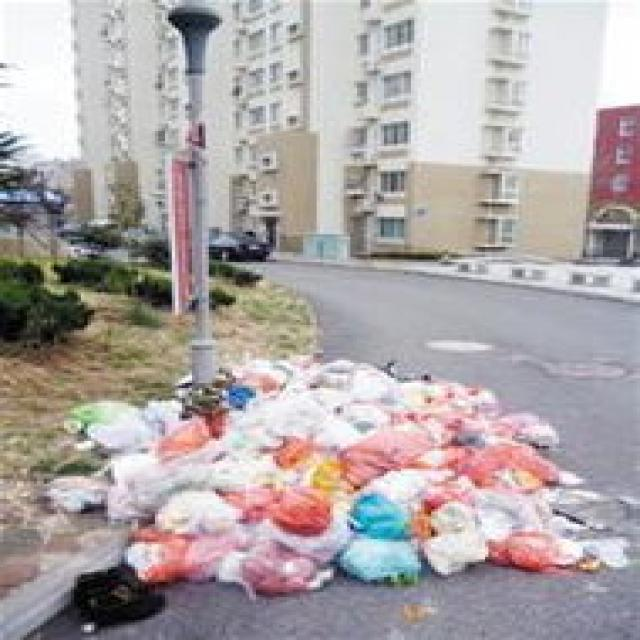garbage: (44, 355, 623, 625)
